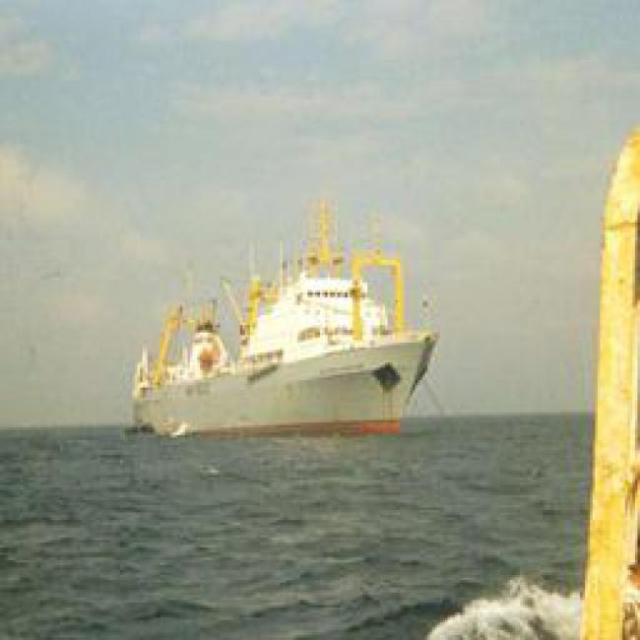boat: (104, 291, 456, 440)
